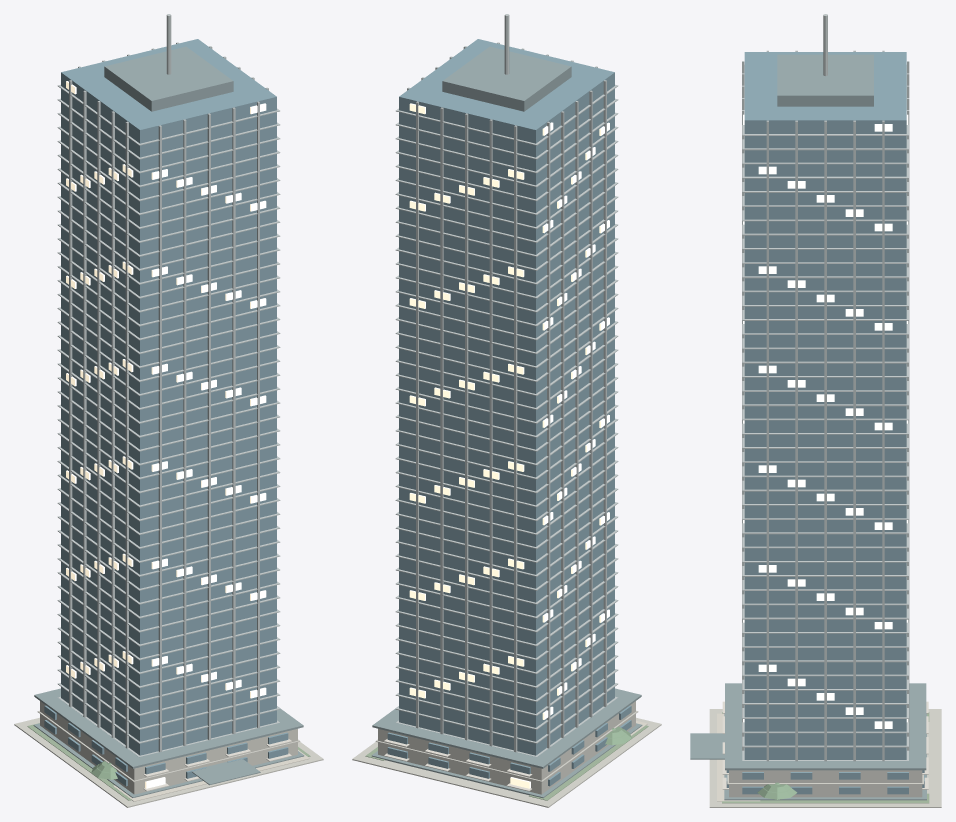
The model's file is remaster_skyscraper_3.glb.
3 renders of one model, left to right at view 1: azimuth 30°, elevation 25°; view 2: azimuth 150°, elevation 25°; view 3: azimuth 270°, elevation 25°, orthographic. The views are drawn at different scales.
Parts seen in each view (by area): view 1: remaster_skyscraper_3 glass, remaster_skyscraper_3 metal, remaster_skyscraper_3 roof, remaster_skyscraper_3 warm, remaster_skyscraper_3 stone, remaster_skyscraper_3 cream, remaster_skyscraper_3 green, remaster_skyscraper_3 white; view 2: remaster_skyscraper_3 glass, remaster_skyscraper_3 metal, remaster_skyscraper_3 roof, remaster_skyscraper_3 stone, remaster_skyscraper_3 warm, remaster_skyscraper_3 white, remaster_skyscraper_3 green; view 3: remaster_skyscraper_3 glass, remaster_skyscraper_3 metal, remaster_skyscraper_3 roof, remaster_skyscraper_3 stone, remaster_skyscraper_3 warm, remaster_skyscraper_3 green, remaster_skyscraper_3 white, remaster_skyscraper_3 cream, remaster_skyscraper_3 leaf.
Part boxes in pixels (bbox=[...]): remaster_skyscraper_3 glass: bbox=[44, 39, 288, 786]; remaster_skyscraper_3 metal: bbox=[57, 14, 280, 756]; remaster_skyscraper_3 roof: bbox=[33, 46, 304, 797]; remaster_skyscraper_3 warm: bbox=[66, 81, 266, 788]; remaster_skyscraper_3 stone: bbox=[14, 701, 323, 807]; remaster_skyscraper_3 cream: bbox=[113, 750, 309, 801]; remaster_skyscraper_3 green: bbox=[27, 723, 310, 800]; remaster_skyscraper_3 white: bbox=[143, 739, 291, 791]; remaster_skyscraper_3 glass: bbox=[387, 39, 631, 786]; remaster_skyscraper_3 metal: bbox=[395, 14, 618, 756]; remaster_skyscraper_3 roof: bbox=[371, 46, 642, 798]; remaster_skyscraper_3 stone: bbox=[352, 701, 661, 807]; remaster_skyscraper_3 warm: bbox=[409, 103, 609, 788]; remaster_skyscraper_3 white: bbox=[384, 739, 532, 791]; remaster_skyscraper_3 green: bbox=[365, 725, 648, 800]; remaster_skyscraper_3 glass: bbox=[726, 52, 924, 794]; remaster_skyscraper_3 metal: bbox=[742, 14, 909, 761]; remaster_skyscraper_3 roof: bbox=[690, 54, 926, 800]; remaster_skyscraper_3 stone: bbox=[709, 709, 941, 807]; remaster_skyscraper_3 warm: bbox=[743, 110, 908, 728]; remaster_skyscraper_3 green: bbox=[722, 712, 929, 803]; remaster_skyscraper_3 white: bbox=[722, 701, 928, 789]; remaster_skyscraper_3 cream: bbox=[717, 713, 760, 801]; remaster_skyscraper_3 leaf: bbox=[757, 782, 797, 799].
Bounding box in the file's own units: 38.58 × 136 × 41.6.
